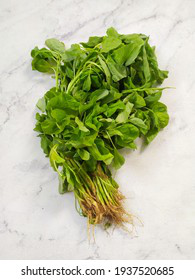Bayam: (16, 16, 184, 253)
